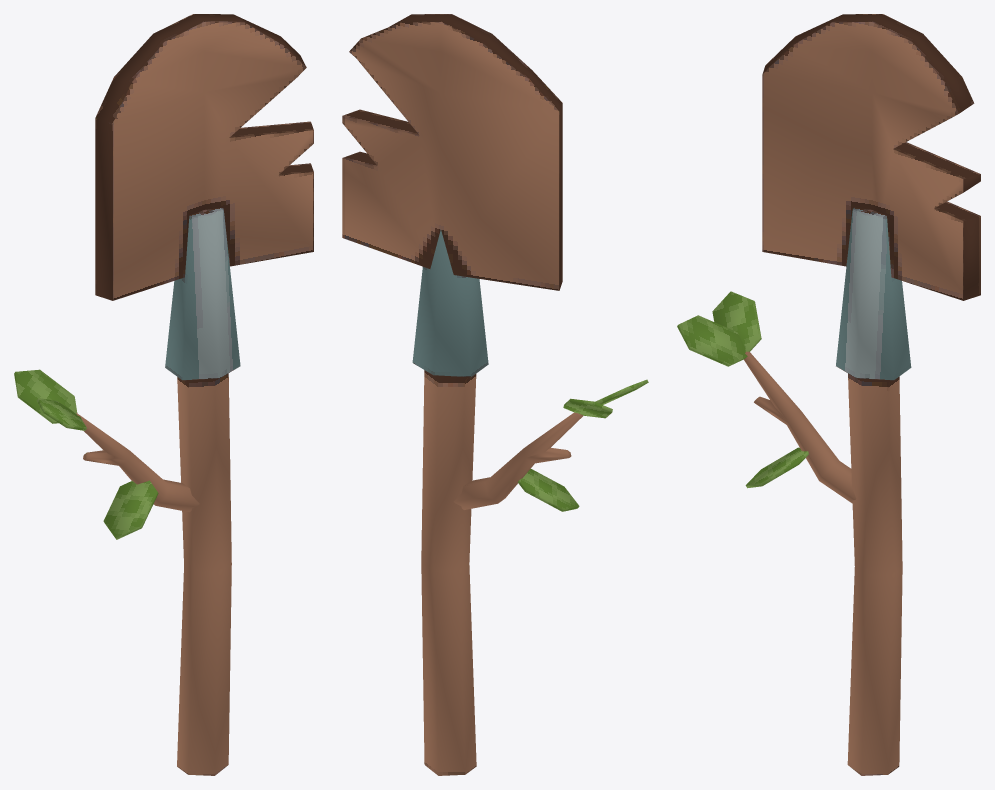
The model's file is shovel.glb.
The picture shows the model from 3 angles, left to right: view 1: azimuth 30°, elevation 25°; view 2: azimuth 150°, elevation 25°; view 3: azimuth 330°, elevation 25°; orthographic projection.
Visible parts, largest first — view 1: Cube; view 2: Cube; view 3: Cube.
Part boxes in pixels (x1,y1,x2,y2): Cube: (14,14,313,775); Cube: (342,14,648,775); Cube: (677,14,980,775).
Bounding box in the file's own units: 1.49 × 3.71 × 0.4411.
Materials: 1 (1 with a texture image).
